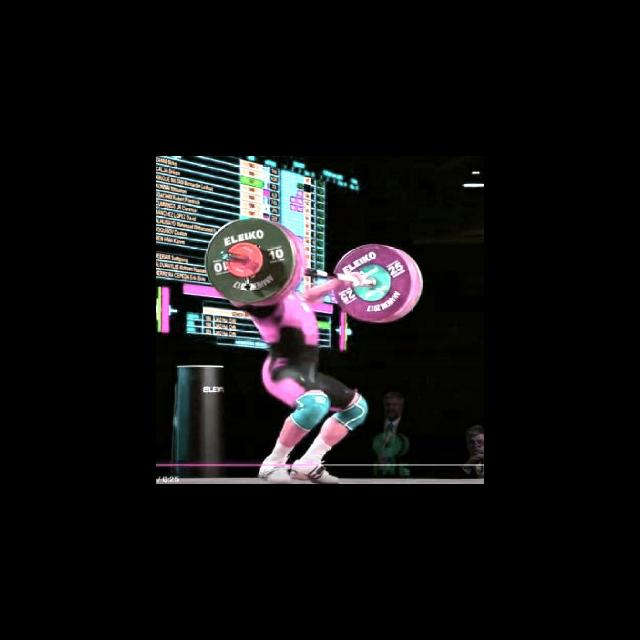barbell: (202, 212, 295, 304)
